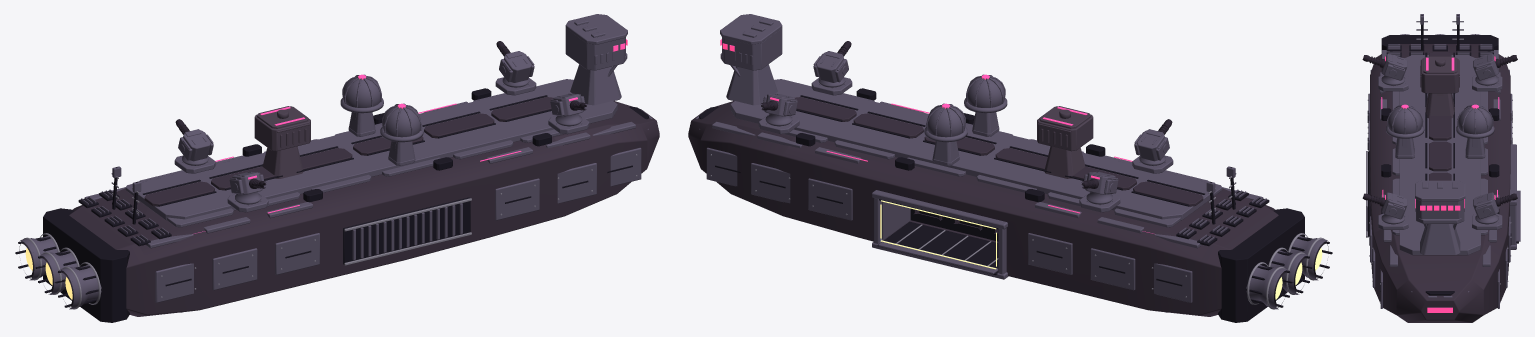
The model's file is enemy_battleship.glb.
3 renders of one model, left to right at view 1: azimuth 30°, elevation 25°; view 2: azimuth 150°, elevation 25°; view 3: azimuth 270°, elevation 25°, orthographic. The views are drawn at different scales.
Visible parts, largest first — view 1: hull, hull_armor, hull_deck, hull_engine_structure, hull_recess, hull_details, core_body, hangar_body, generator_1_body, generator_2_body, hull_engine_dark, turret_3_head (+7 smaller); view 2: hull, hull_armor, hull_deck, hull_bay_structure, hull_engine_structure, core_body, hangar_body, hull_recess, hull_details, generator_2_body, generator_1_body, hull_engine_dark (+9 smaller); view 3: hull, hull_deck, hull_armor, core_body, hangar_body, hull_details, generator_1_body, generator_2_body, hull_recess, hull_engine_structure, hull_bay_structure, turret_2_head (+13 smaller).
Boxes of the visible parts, x1=… form: hull: x1=69, y1=101, x2=659, y2=316; hull_armor: x1=84, y1=93, x2=652, y2=312; hull_deck: x1=134, y1=79, x2=617, y2=220; hull_engine_structure: x1=19, y1=208, x2=129, y2=322; hull_recess: x1=78, y1=95, x2=648, y2=286; hull_details: x1=81, y1=88, x2=551, y2=265; core_body: x1=565, y1=14, x2=627, y2=105; hangar_body: x1=254, y1=106, x2=310, y2=178; generator_1_body: x1=340, y1=74, x2=383, y2=136; generator_2_body: x1=380, y1=103, x2=423, y2=165; hull_engine_dark: x1=15, y1=237, x2=102, y2=307; turret_3_head: x1=178, y1=129, x2=213, y2=161; hull: x1=688, y1=101, x2=1278, y2=316; hull_armor: x1=695, y1=93, x2=1263, y2=312; hull_deck: x1=730, y1=79, x2=1213, y2=220; hull_bay_structure: x1=872, y1=190, x2=1008, y2=279; hull_engine_structure: x1=1218, y1=208, x2=1328, y2=322; core_body: x1=720, y1=14, x2=782, y2=105; hangar_body: x1=1037, y1=106, x2=1093, y2=178; hull_recess: x1=699, y1=95, x2=1269, y2=286; hull_details: x1=796, y1=88, x2=1266, y2=242; generator_2_body: x1=964, y1=74, x2=1007, y2=136; generator_1_body: x1=924, y1=103, x2=967, y2=165; hull_engine_dark: x1=1245, y1=237, x2=1332, y2=307; hull: x1=1370, y1=44, x2=1510, y2=322; hull_deck: x1=1399, y1=55, x2=1480, y2=255; hull_armor: x1=1368, y1=50, x2=1512, y2=308; core_body: x1=1415, y1=180, x2=1465, y2=255; hangar_body: x1=1420, y1=56, x2=1459, y2=118; hull_details: x1=1366, y1=14, x2=1499, y2=237; generator_1_body: x1=1456, y1=105, x2=1494, y2=158; generator_2_body: x1=1386, y1=105, x2=1424, y2=158; hull_recess: x1=1367, y1=45, x2=1512, y2=295; hull_engine_structure: x1=1381, y1=34, x2=1498, y2=50; hull_bay_structure: x1=1510, y1=144, x2=1520, y2=249; turret_2_head: x1=1381, y1=192, x2=1407, y2=219.
Bounding box in the file's own units: 7937 × 1978 × 2028.
